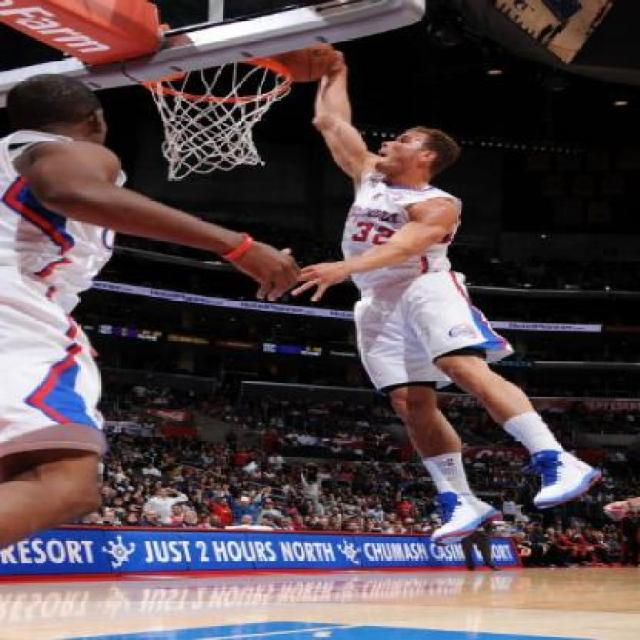rim: (132, 57, 294, 177)
